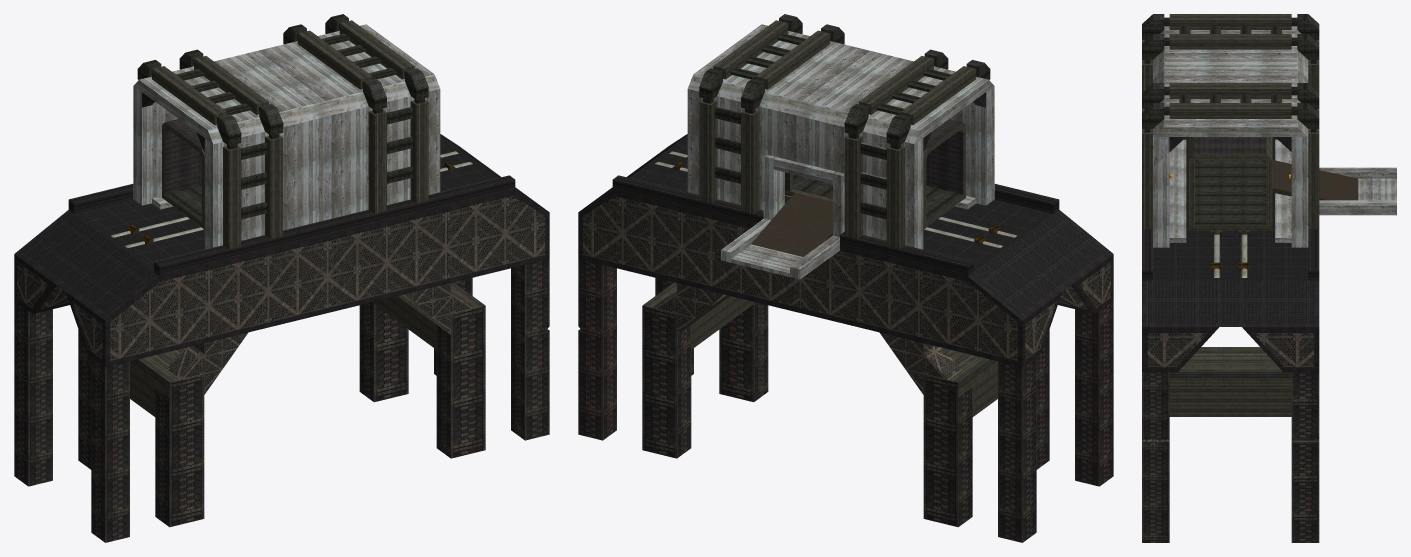
File: cavestand1.fbx
3 views of the same model, side by side, from view 1: azimuth 30°, elevation 25°; view 2: azimuth 150°, elevation 25°; view 3: azimuth 270°, elevation 25° (orthographic). The views are drawn at different scales.
Parts seen in each view (by area): view 1: Object; view 2: Object; view 3: Object.
Boxes of the visible parts, bbox=[...] form: Object: bbox=[14, 14, 549, 542]; Object: bbox=[578, 14, 1113, 542]; Object: bbox=[1142, 14, 1396, 542].
Size of the model in its own units: 18000 by 15000 by 9200.
